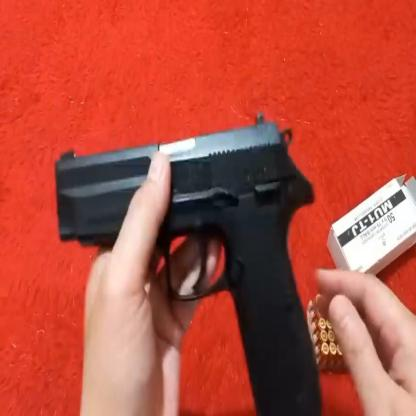handgun: (35, 102, 326, 416)
